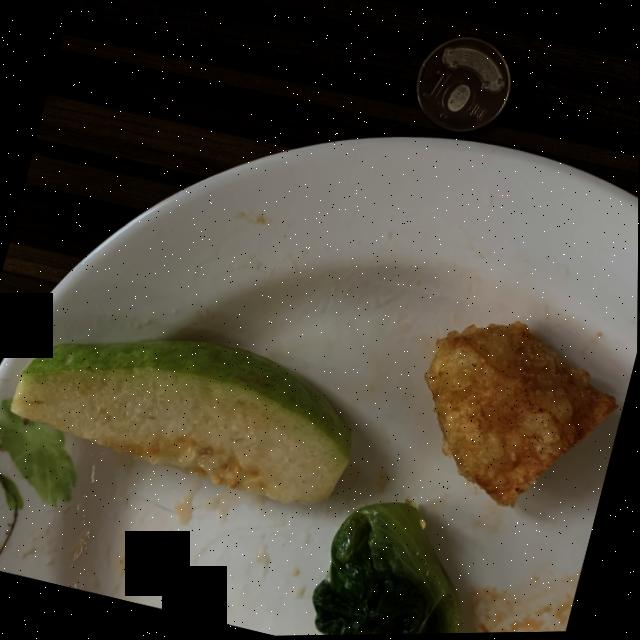coin: (415, 37, 510, 133)
fried potato: (424, 322, 617, 507)
guava -sliced-: (10, 340, 351, 504)
mustard greens: (312, 503, 460, 636)
